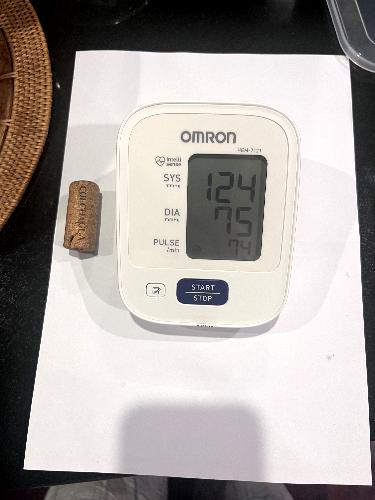bpm: (184, 153, 269, 264)
